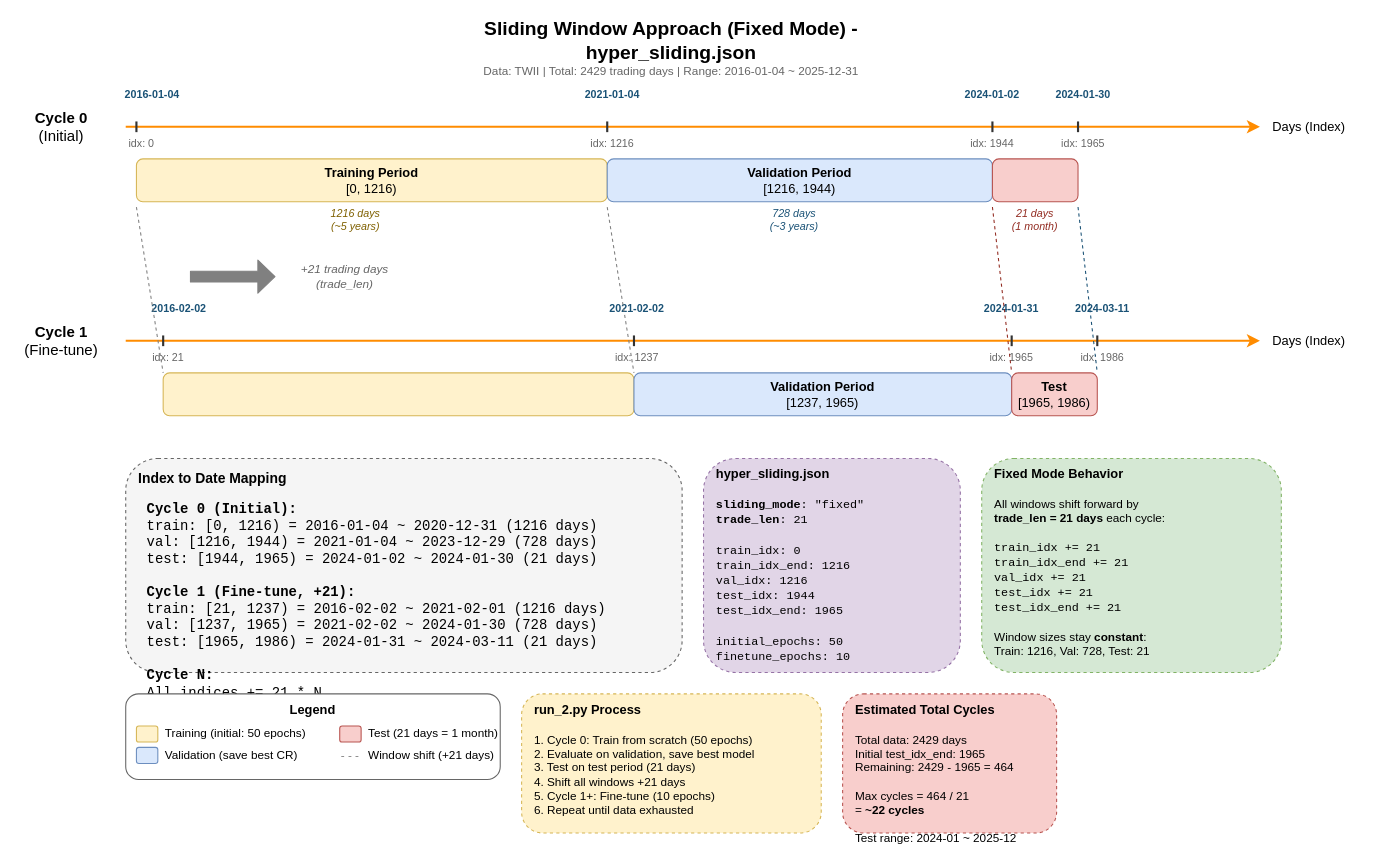
Image size: 1374x866. Some labels were removed from this diagram. Here are the shapes that lost their labels. From the top down, the centre of each, then its label:
the point at 1034,180: Test [1944, 1965)
the point at 398,394: Training Period [21, 1237)
